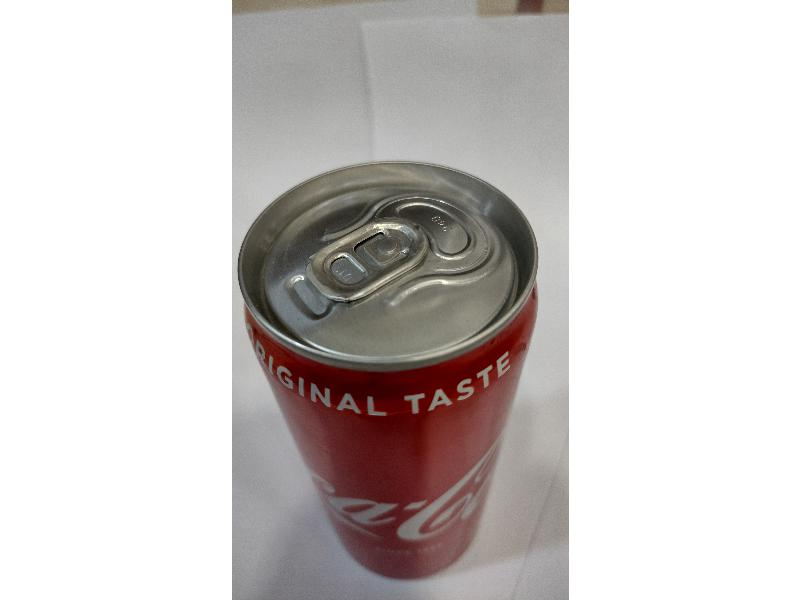can: (237, 162, 545, 581)
